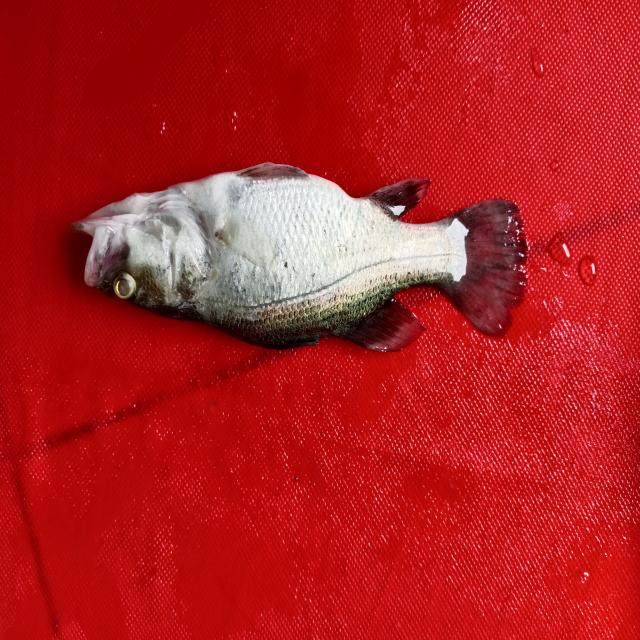ikan: (74, 146, 544, 380)
